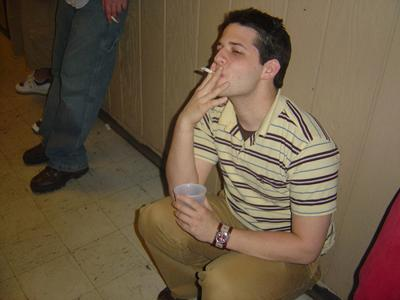person: (134, 6, 340, 300)
